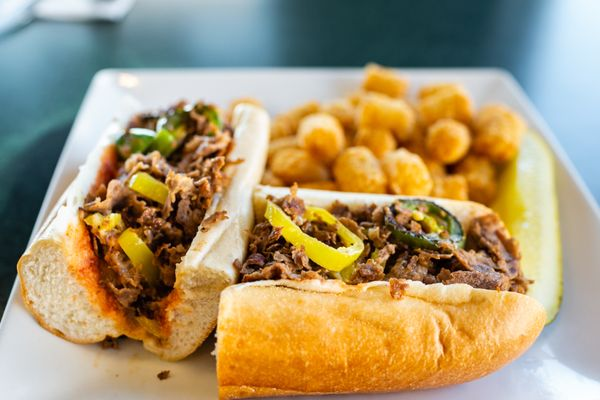soup: (214, 183, 550, 392), (18, 94, 271, 359)
